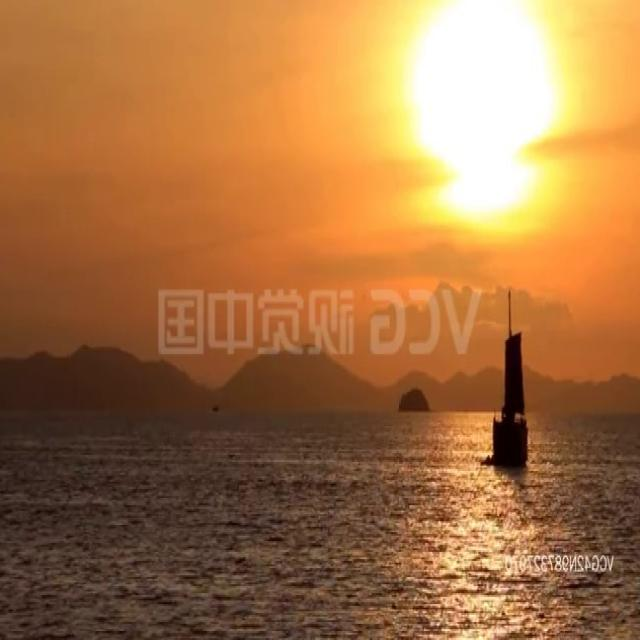sailboat: (487, 279, 536, 465)
